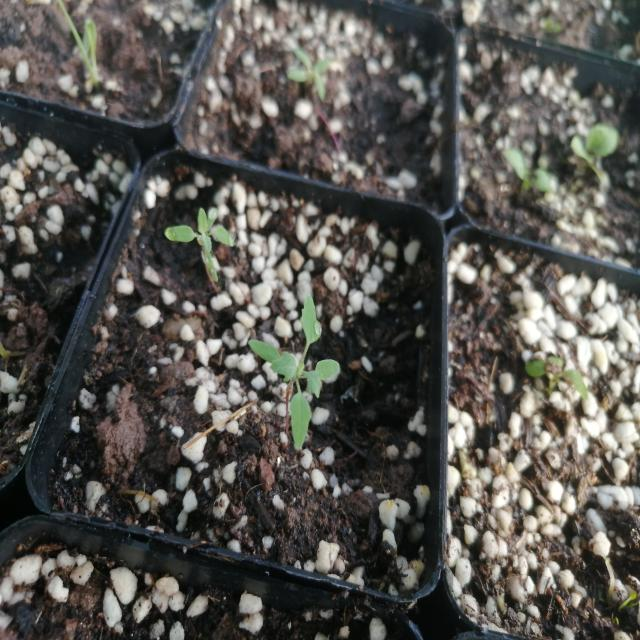goosefoots: (253, 296, 363, 446), (161, 198, 249, 272)
